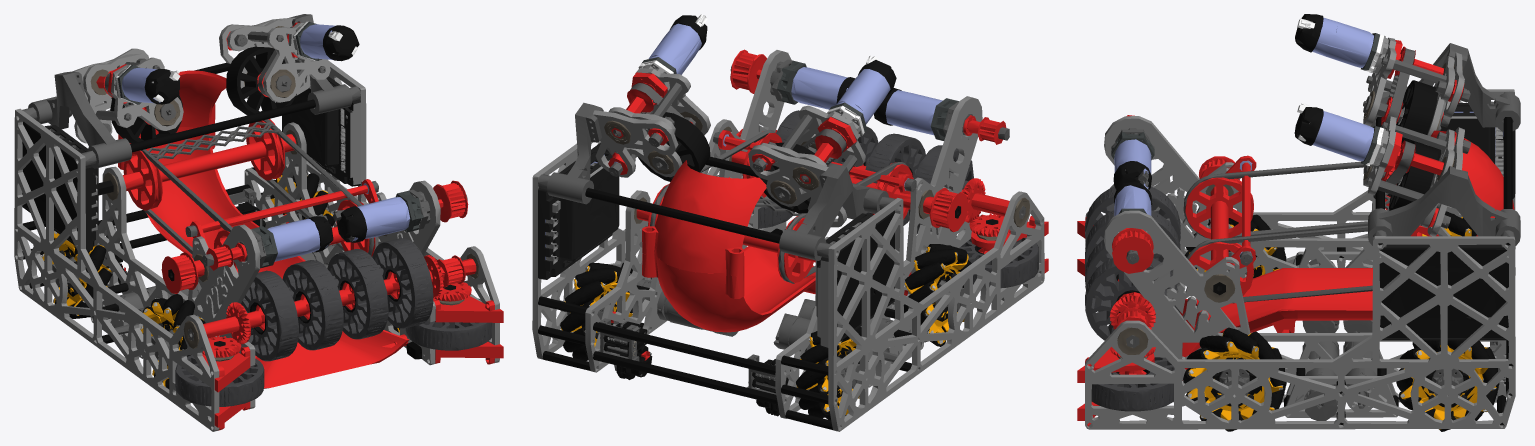
The model's file is robot-mobile.glb.
3 renders of one model, left to right at view 1: azimuth 30°, elevation 25°; view 2: azimuth 150°, elevation 25°; view 3: azimuth 270°, elevation 25°, orthographic. The views are drawn at different scales.
Parts seen in each view (by area): view 1: DRIVEBASE, INTAKE, INDEXER, SHOOTER, SENSORS; view 2: DRIVEBASE, SHOOTER, INDEXER, INTAKE, SENSORS; view 3: DRIVEBASE, SHOOTER, INDEXER, INTAKE, SENSORS.
Boxes of the visible parts, x1,y1,x2,y2 form: DRIVEBASE: [14, 58, 499, 431]; INTAKE: [175, 180, 503, 430]; INDEXER: [98, 70, 409, 388]; SHOOTER: [22, 14, 360, 168]; SENSORS: [22, 76, 422, 359]; DRIVEBASE: [532, 50, 1044, 431]; SHOOTER: [538, 14, 896, 260]; INDEXER: [634, 88, 1008, 332]; INTAKE: [716, 49, 1048, 288]; SENSORS: [538, 142, 894, 348]; DRIVEBASE: [1085, 89, 1515, 431]; SHOOTER: [1294, 14, 1520, 247]; INDEXER: [1111, 115, 1514, 380]; INTAKE: [1077, 180, 1180, 426]; SENSORS: [1373, 103, 1515, 340].
Bounding box in the file's own units: 0.3829 × 0.3397 × 0.4448.
